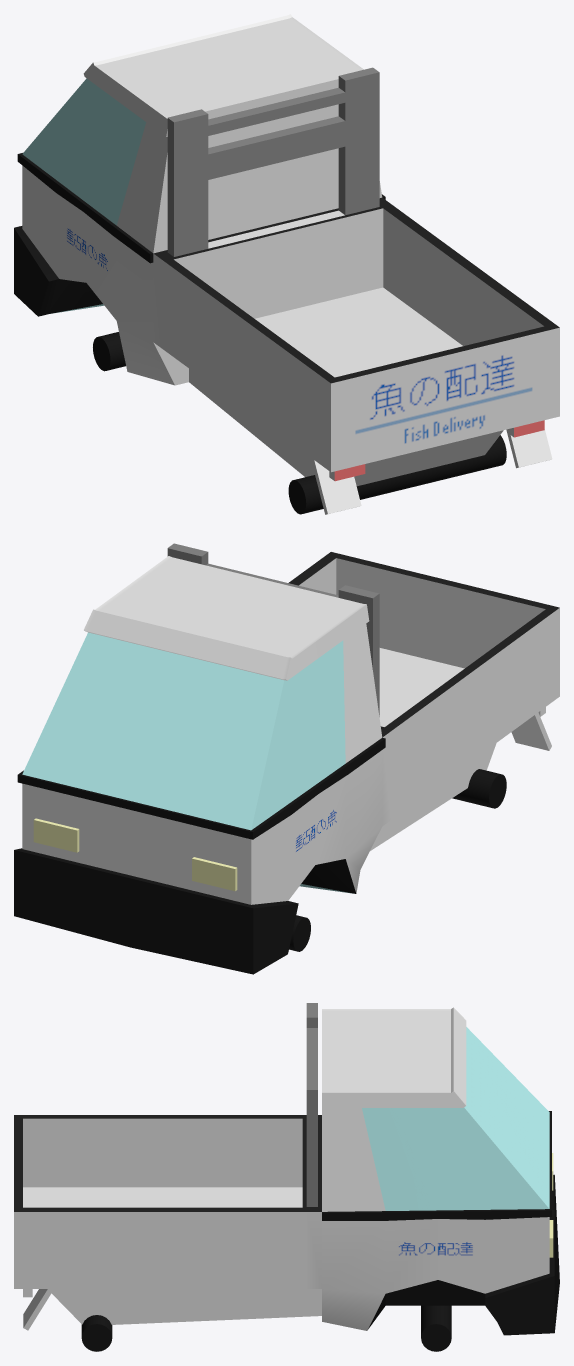
Rendered from KeiTruck.fbx.
3 renders of one model, top to bottom at view 1: azimuth 30°, elevation 25°; view 2: azimuth 150°, elevation 25°; view 3: azimuth 270°, elevation 25°, orthographic. The views are drawn at different scales.
Visible parts, largest first — view 1: KeiTruck; view 2: KeiTruck; view 3: KeiTruck.
Part boxes in pixels (<box>): KeiTruck: <box>14,14,559,514</box>; KeiTruck: <box>14,543,559,974</box>; KeiTruck: <box>14,1003,559,1351</box>.
Bounding box in the file's own units: 1.94 × 2.25 × 4.23.
Materials: 2 (1 with a texture image).
